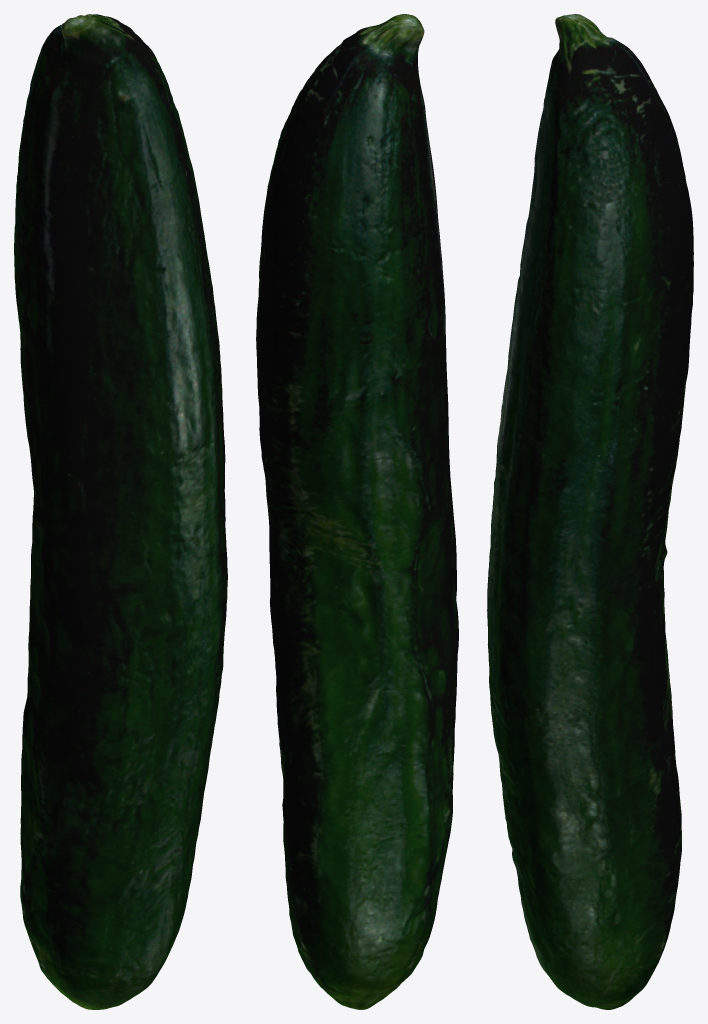
Rendered from Aligned.obj.
3 renders of one model, left to right at view 1: azimuth 30°, elevation 25°; view 2: azimuth 150°, elevation 25°; view 3: azimuth 270°, elevation 25°, orthographic. The views are drawn at different scales.
Visible parts, largest first — view 1: qq; view 2: qq; view 3: qq.
Boxes of the visible parts, left/top/right/bottom form: qq: left=14, top=14, right=227, bottom=1009; qq: left=256, top=14, right=458, bottom=1009; qq: left=487, top=14, right=693, bottom=1009.
Size of the model in its own units: 35.89 by 193 by 37.05.
